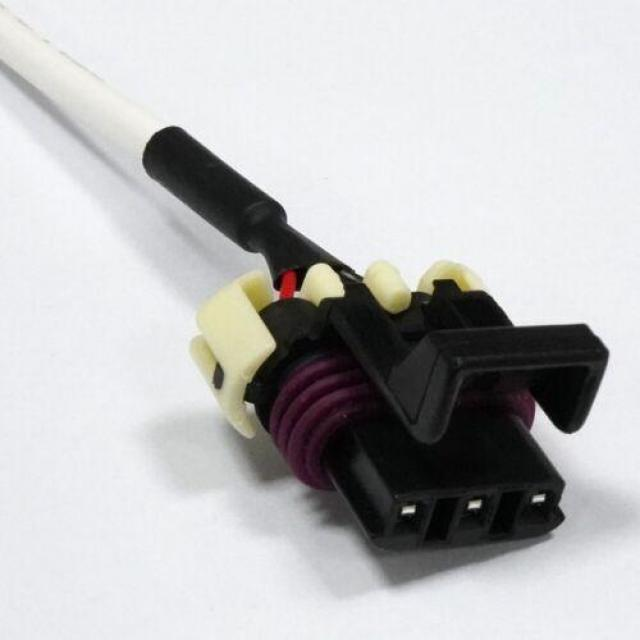connector: (248, 262, 607, 548)
